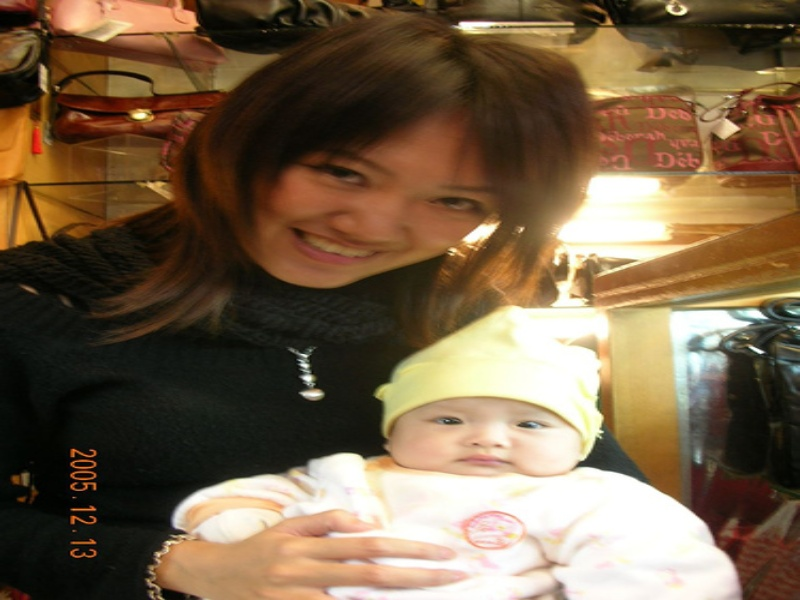person: (1, 14, 648, 600), (172, 305, 741, 600)
